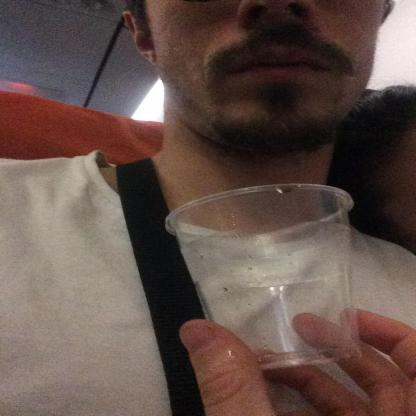plastik: (163, 183, 363, 371)
